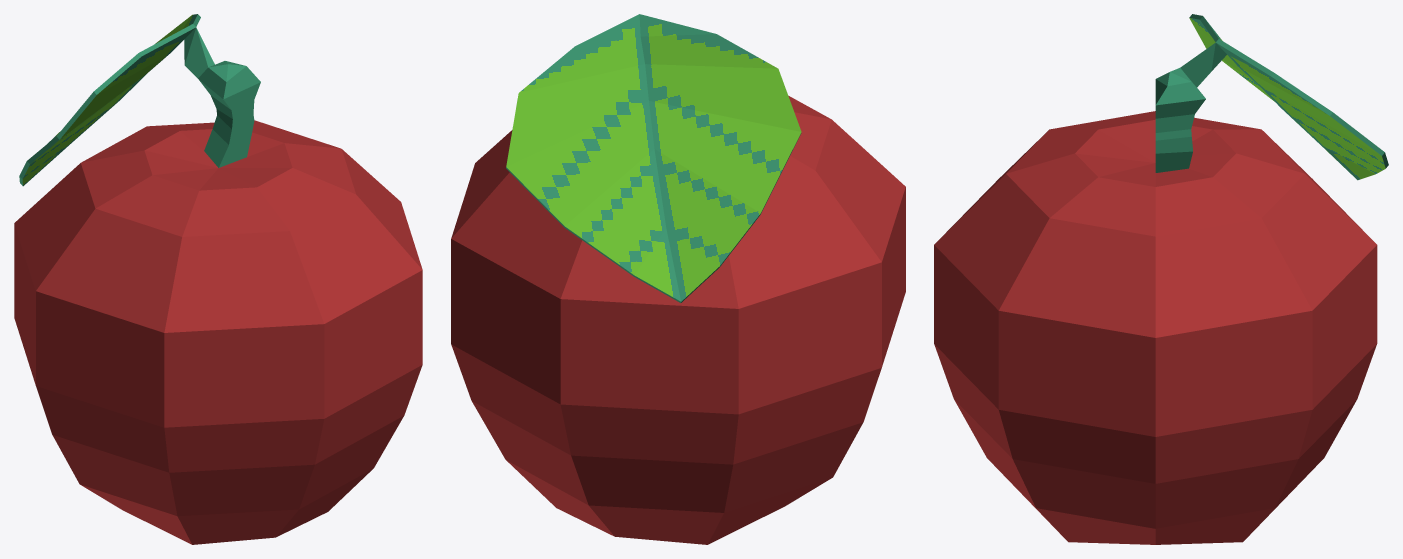
Rendered from applev4.fbx.
The picture shows the model from 3 angles, left to right: view 1: azimuth 30°, elevation 25°; view 2: azimuth 150°, elevation 25°; view 3: azimuth 270°, elevation 25°; orthographic projection. The views are drawn at different scales.
Parts seen in each view (by area): view 1: Cylinder; view 2: Cylinder; view 3: Cylinder.
Part boxes in pixels (x1,y1,x2,y2): Cylinder: [14, 14, 422, 544]; Cylinder: [451, 14, 905, 544]; Cylinder: [934, 14, 1388, 544].
Size of the model in its own units: 18.32 by 22.45 by 18.89.
